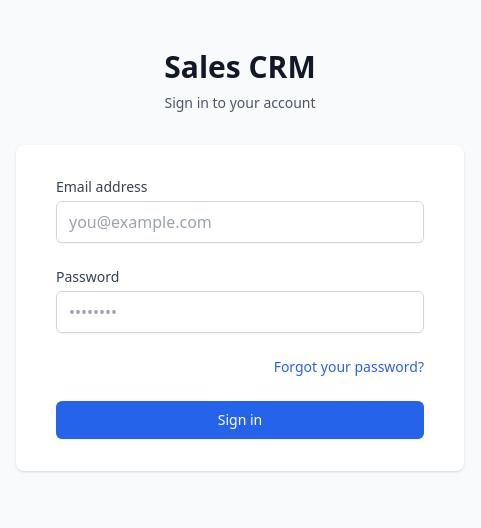
Test case: LoginPage › shows INVALID_CREDENTIALS error message
Type "a@b.com" into the field labelled "Email address" at (240, 222), box 56,201 -> 424,243
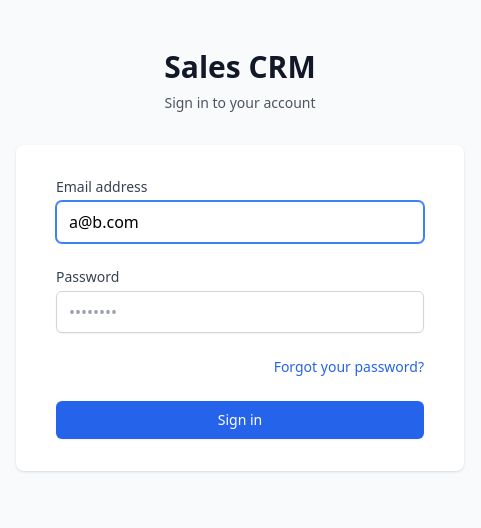
Type "wrong" into the password field labelled "Password" at (240, 312), box 56,291 -> 424,333
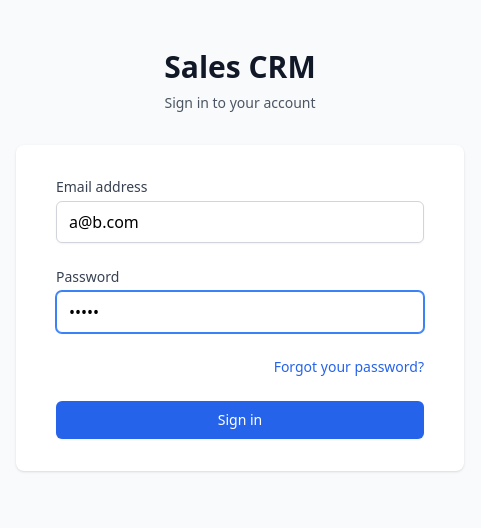
Click the button "Sign in" at (240, 420), box 56,401 -> 424,439
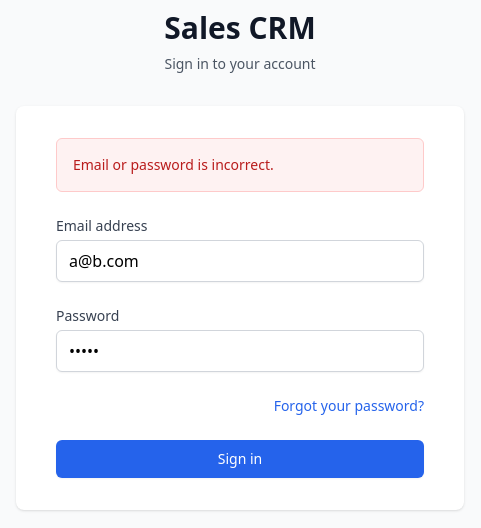
Result: the message reads "Email or password is incorrect." at 73,155 -> 274,174
